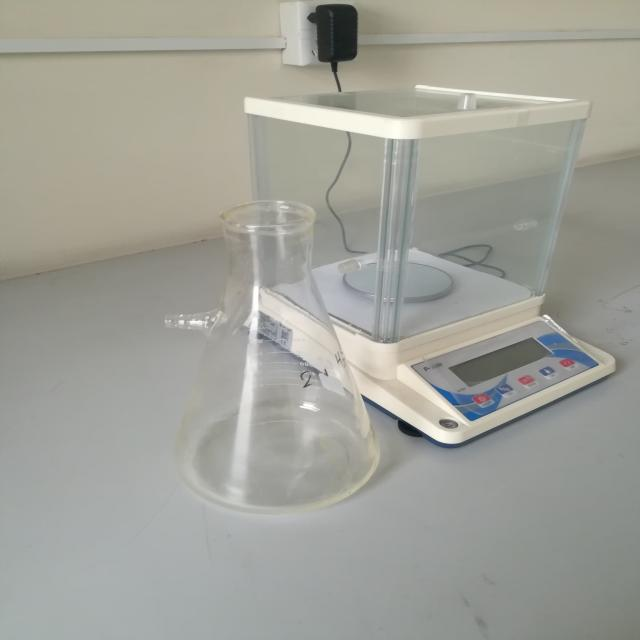Conical_Flask: (101, 181, 423, 534)
